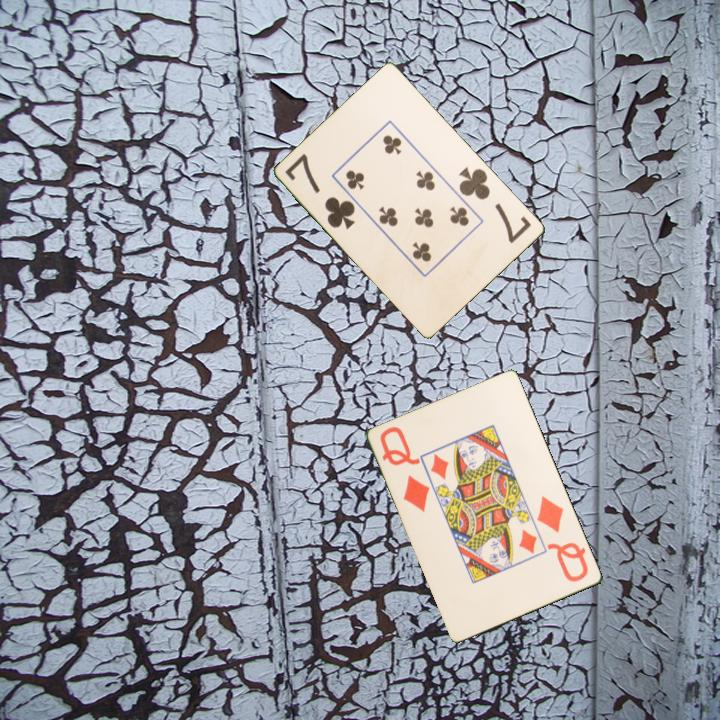7c: (456, 163, 535, 246), (281, 150, 359, 233)
Qd: (534, 493, 592, 585), (376, 422, 433, 515)
